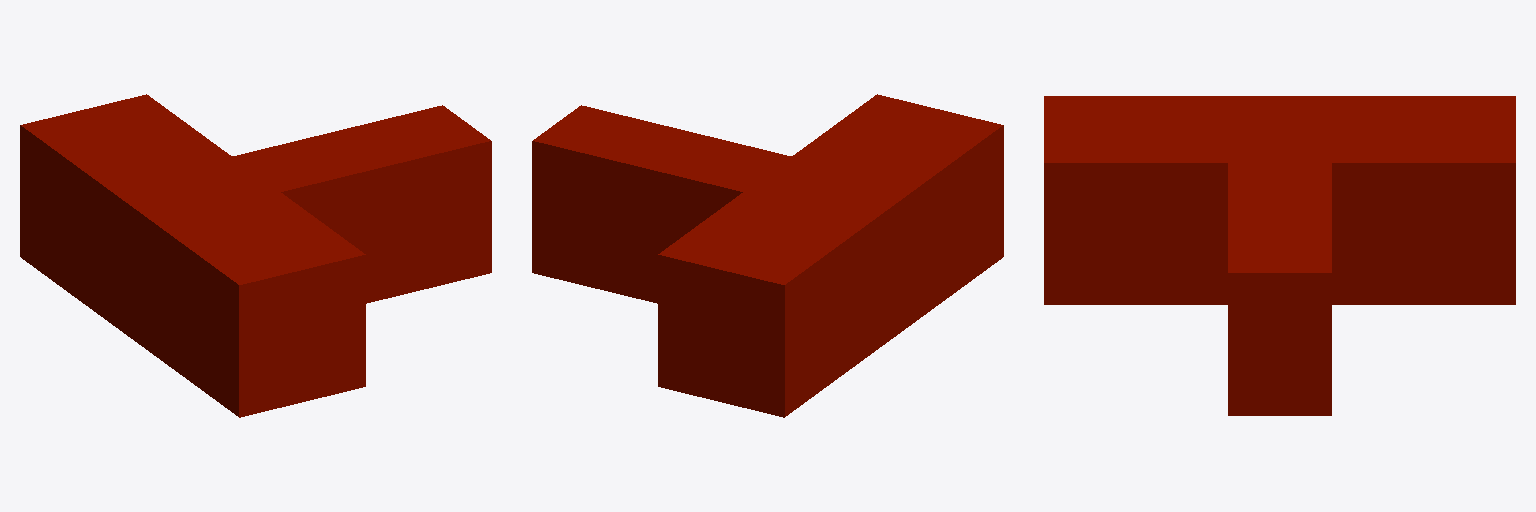
robot.urdf — tetris_t:
<robot name="tetris_t">

  <link name="t_block">

    <collision>
      <origin xyz="0 0 0" />
      <geometry>
        <box size="0.06 0.06 0.06" />
      </geometry>
    </collision>
    <visual>
      <origin xyz="0 0 0" />
      <material name="c">
        <color rgba="0.6 0.1 0.0 1.0" />
      </material>
      <geometry>
        <box size="0.06 0.06 0.06" />
      </geometry>
    </visual>

    <collision>
      <origin xyz="0 0.06 0" />
      <geometry>
        <box size="0.06 0.06 0.06" />
      </geometry>
    </collision>
    <visual>
      <origin xyz="0 0.06 0" />
      <material name="c">
        <color rgba="0.6 0.1 0.0 1.0" />
      </material>
      <geometry>
        <box size="0.06 0.06 0.06" />
      </geometry>
    </visual>

    <collision>
      <origin xyz="0 -0.06 0" />
      <geometry>
        <box size="0.06 0.06 0.06" />
      </geometry>
    </collision>
    <visual>
      <origin xyz="0 -0.06 0" />
      <material name="c">
        <color rgba="0.6 0.1 0.0 1.0" />
      </material>
      <geometry>
        <box size="0.06 0.06 0.06" />
      </geometry>
    </visual>

    <collision>
      <origin xyz="0.06 0 0" />
      <geometry>
        <box size="0.06 0.04 0.06" />
      </geometry>
    </collision>
    <visual>
      <origin xyz="0.06 0 0" />
      <material name="c">
        <color rgba="0.6 0.1 0.0 1.0" />
      </material>
      <geometry>
        <box size="0.06 0.04 0.06" />
      </geometry>
    </visual>

      <collision>
      <origin xyz="0.1 0 0" />
      <geometry>
        <box size="0.06 0.04 0.06" />
      </geometry>
    </collision>
    <visual>
      <origin xyz="0.1 0 0" />
      <material name="c">
        <color rgba="0.6 0.1 0.0 1.0" />
      </material>
      <geometry>
        <box size="0.06 0.04 0.06" />
      </geometry>
    </visual>

  </link>
</robot>

--- Render facts (derived) ---
Views: 3 orthographic renders of the robot side by side, from view 1: azimuth 30°, elevation 25°; view 2: azimuth 150°, elevation 25°; view 3: azimuth 270°, elevation 25°.
Model tetris_t with 1 links and 0 joints (none), rooted at t_block, posed all joints at 0.
Visible links, largest first — view 1: t_block; view 2: t_block; view 3: t_block.
Boxes of the visible links, left/top/right/bottom form: t_block: left=20, top=94, right=491, bottom=417; t_block: left=532, top=94, right=1003, bottom=417; t_block: left=1044, top=96, right=1515, bottom=415.
Bounding box of the posed robot: 0.16 × 0.18 × 0.06 m (x, y, z).
Geometry: primitives only (box / cylinder / sphere), no mesh files.
